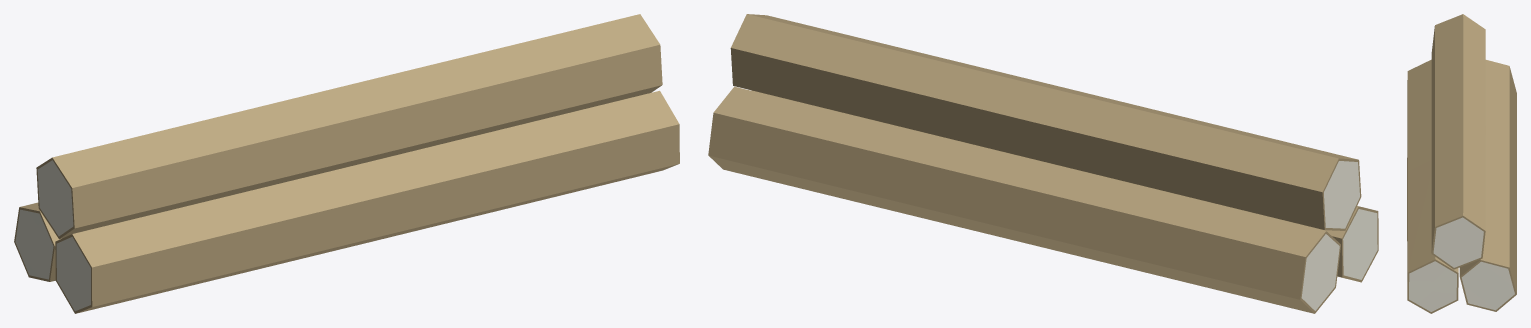
File: Tronco_Recurso.FBX
3 views of the same model, side by side, from view 1: azimuth 30°, elevation 25°; view 2: azimuth 150°, elevation 25°; view 3: azimuth 270°, elevation 25° (orthographic). The views are drawn at different scales.
Visible parts, largest first — view 1: Tronco_Recurso; view 2: Tronco_Recurso; view 3: Tronco_Recurso.
Part boxes in pixels (x1,y1,x2,y2): Tronco_Recurso: (14,14,679,313); Tronco_Recurso: (708,14,1378,313); Tronco_Recurso: (1407,14,1516,313).
Bounding box in the file's own units: 42.04 × 9.56 × 9.67.
